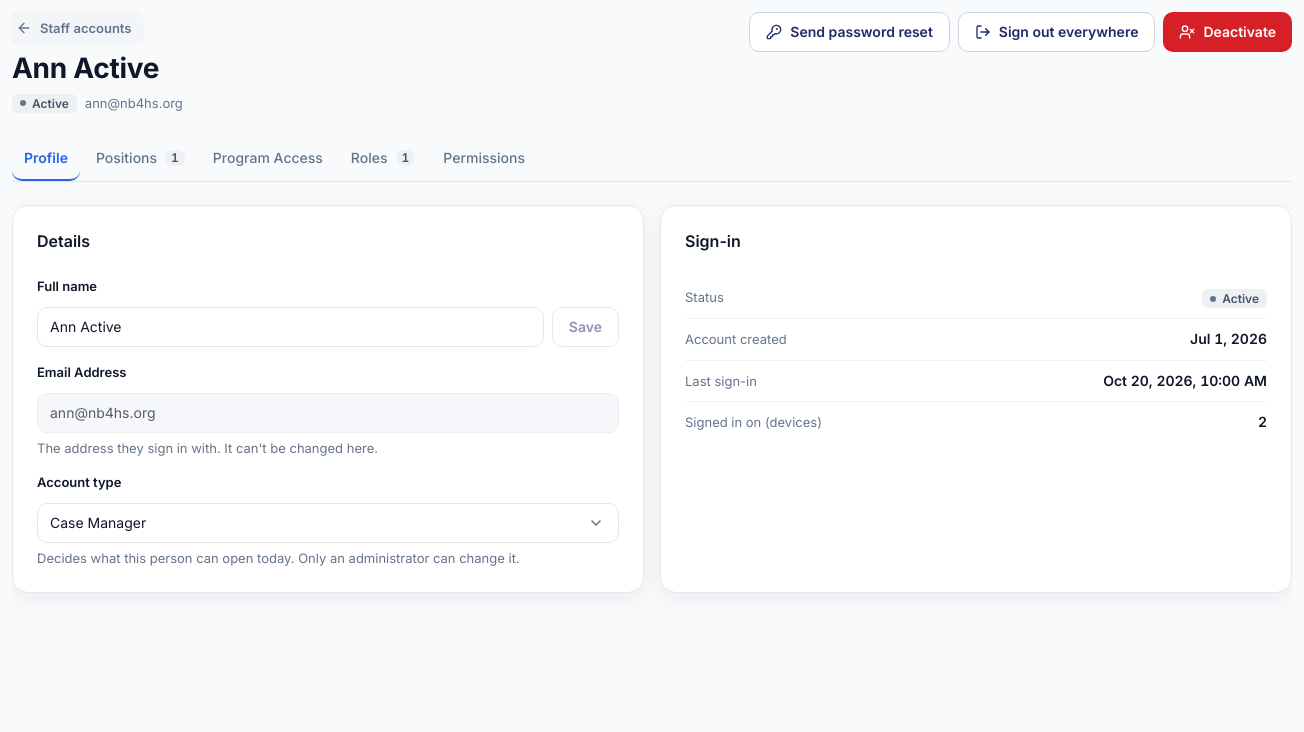
Test case: Detailed permissions › shows where each permission comes from
Click the tab "Permissions": (484, 159) left=431, top=137, right=537, bottom=181
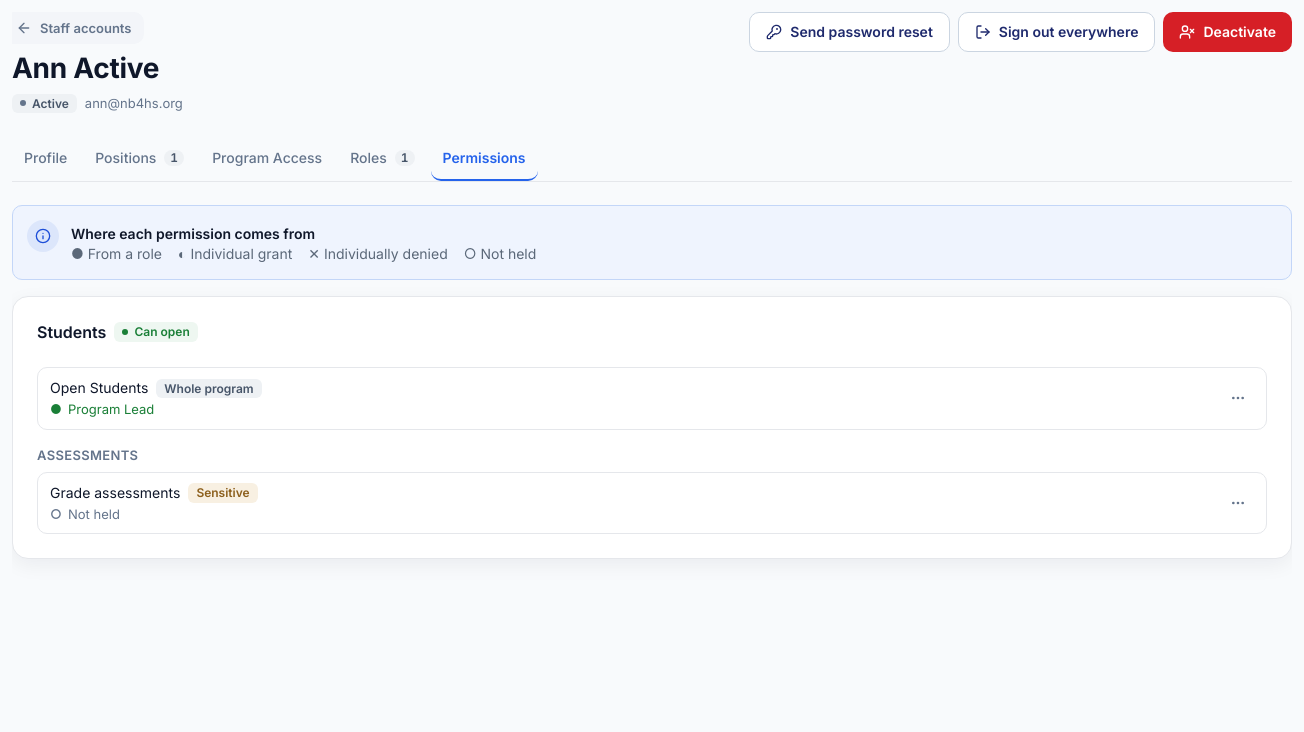
Expected: the text "Grade assessments" is shown, left=50, top=483, right=180, bottom=503
Expected: the text "Program Lead" is shown, left=68, top=400, right=154, bottom=419
Expected: the text "Not held" is shown, left=68, top=505, right=120, bottom=523
